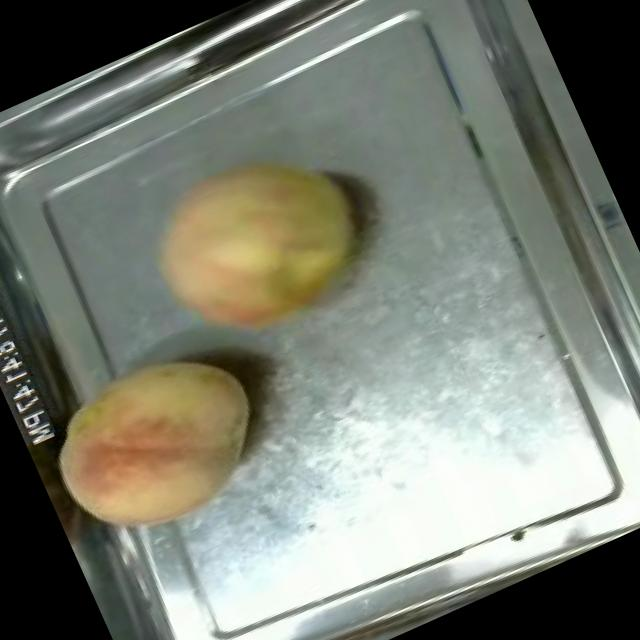Fruit: (116, 116, 399, 378), (22, 318, 294, 569)
